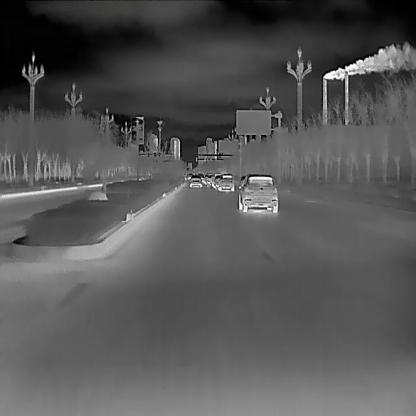car: (239, 175, 278, 213), (216, 173, 234, 191), (189, 173, 202, 188)
